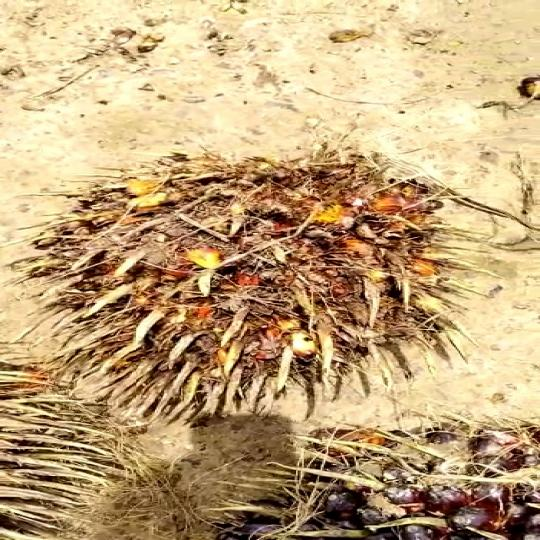terlalu masak: (1, 141, 540, 442)
